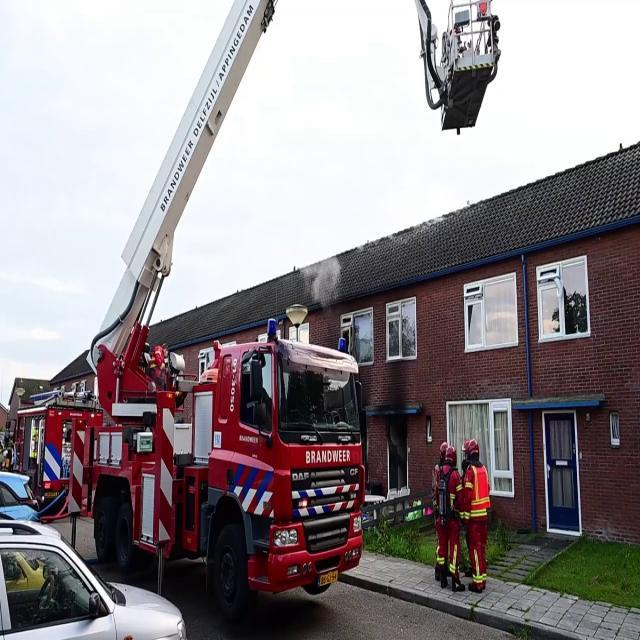Smoke: (302, 246, 347, 300)
